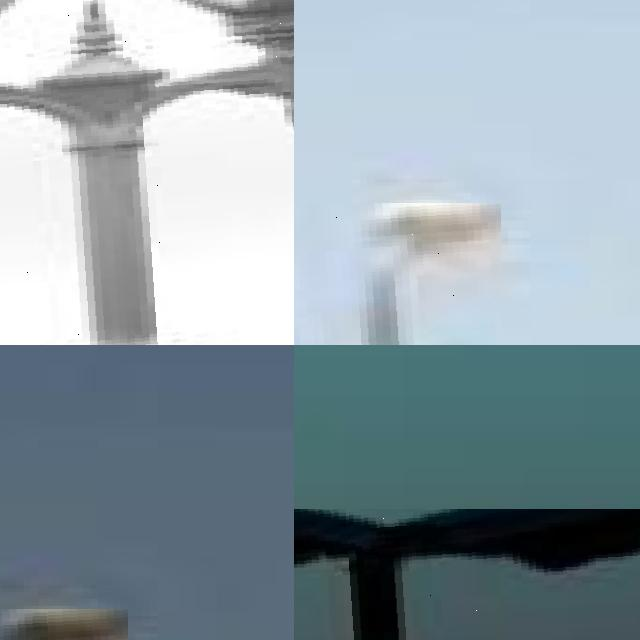street light: (0, 0, 294, 345), (294, 509, 640, 640), (307, 203, 500, 345)
